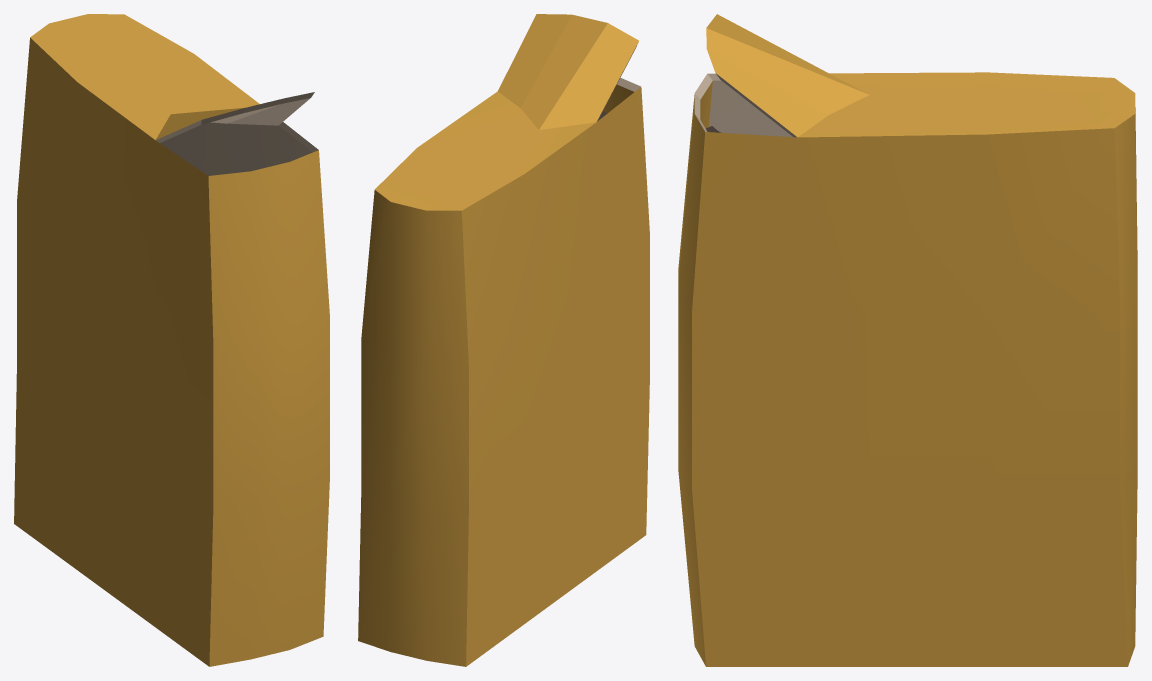
File: DogFood.fbx
3 renders of one model, left to right at view 1: azimuth 30°, elevation 25°; view 2: azimuth 150°, elevation 25°; view 3: azimuth 270°, elevation 25°, orthographic. The views are drawn at different scales.
Visible parts, largest first — view 1: pCube22; view 2: pCube22; view 3: pCube22.
Boxes of the visible parts, left/top/right/bottom form: pCube22: left=14, top=14, right=329, bottom=666; pCube22: left=358, top=14, right=649, bottom=666; pCube22: left=678, top=14, right=1137, bottom=666.
Size of the model in its own units: 0.514 by 2.31 by 1.61.
